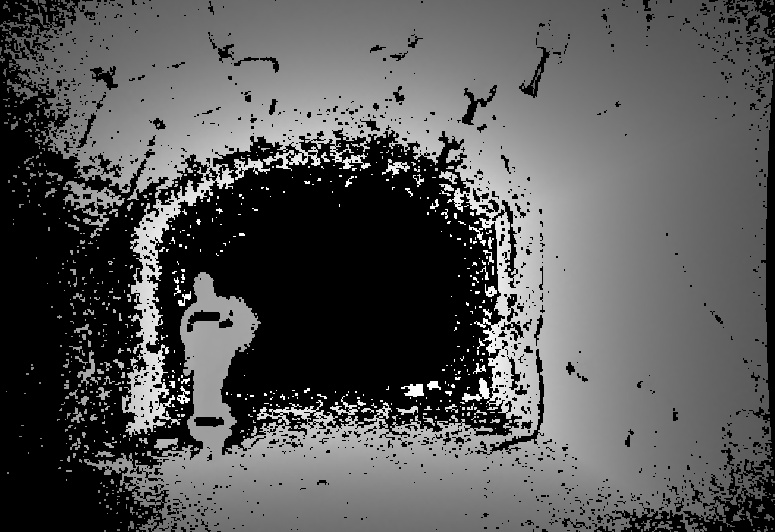person: (179, 272, 260, 460)
